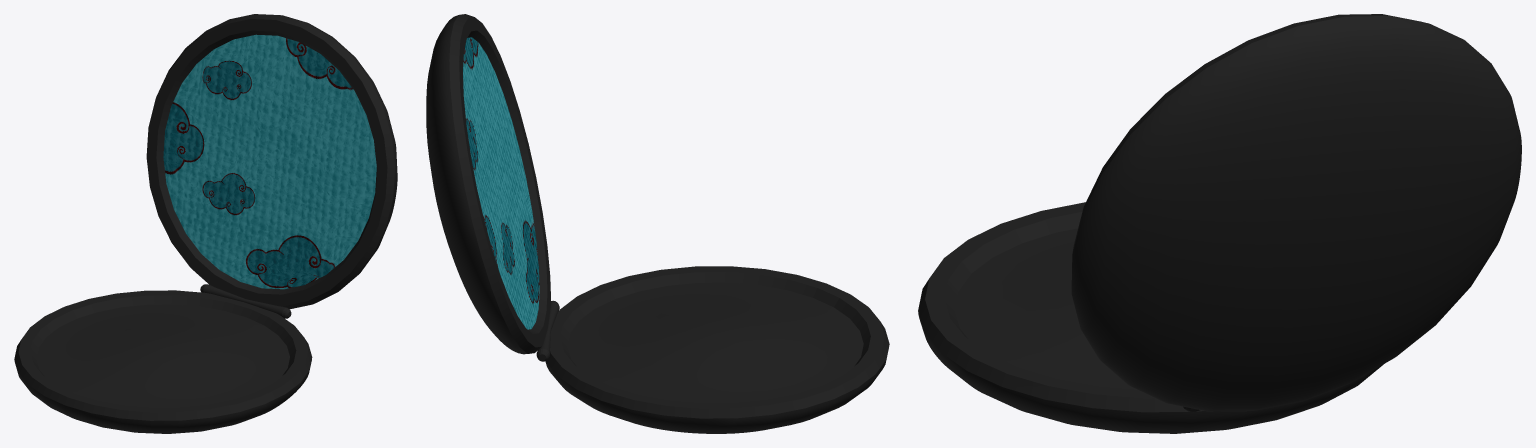
Rendered from HollyPocket.FBX.
3 views of the same model, side by side, from view 1: azimuth 30°, elevation 25°; view 2: azimuth 150°, elevation 25°; view 3: azimuth 270°, elevation 25° (orthographic). The views are drawn at different scales.
Parts seen in each view (by area): view 1: MirrorFace, Sphere296, Sphere297, Cylinder125; view 2: Sphere296, Sphere297, MirrorFace, Cylinder125; view 3: Sphere297, Sphere296.
Part boxes in pixels (bbox=[...]): MirrorFace: bbox=[163, 34, 376, 289]; Sphere296: bbox=[14, 290, 312, 433]; Sphere297: bbox=[146, 14, 397, 309]; Cylinder125: bbox=[200, 284, 291, 318]; Sphere296: bbox=[545, 266, 889, 433]; Sphere297: bbox=[426, 14, 551, 354]; MirrorFace: bbox=[463, 37, 539, 329]; Cylinder125: bbox=[536, 300, 559, 361]; Sphere297: bbox=[1071, 14, 1521, 411]; Sphere296: bbox=[918, 202, 1383, 433].
Bounding box in the file's own units: 546 × 442 × 497.
